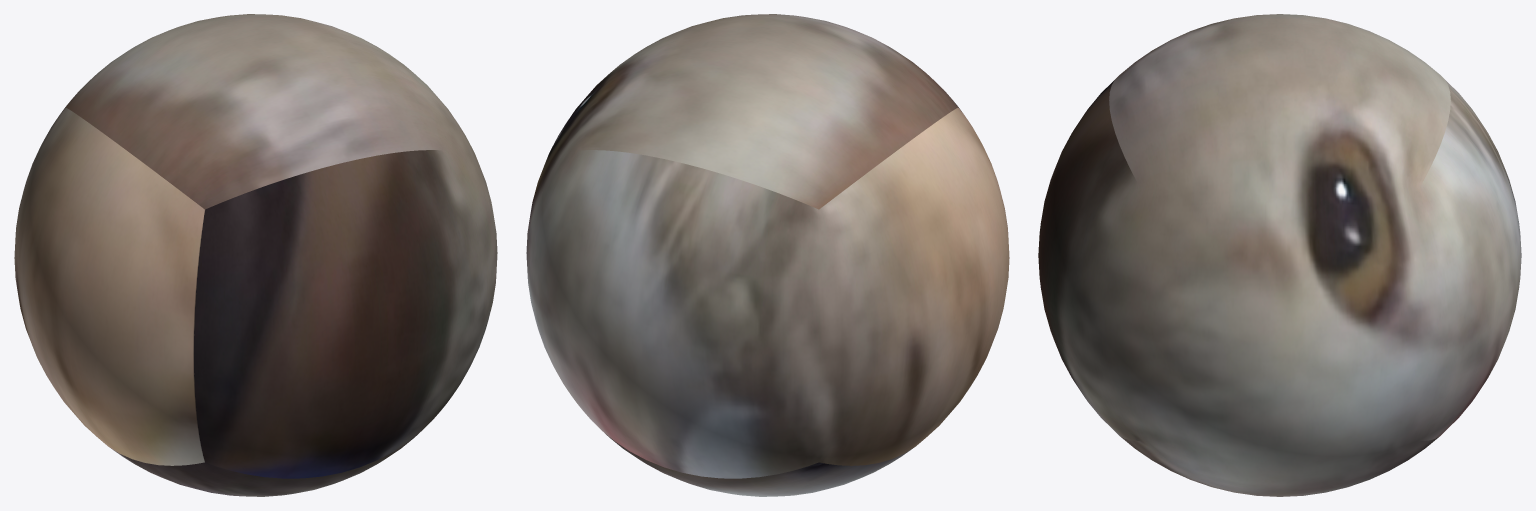
File: bigSphere.glb
The picture shows the model from 3 angles, left to right: view 1: azimuth 30°, elevation 25°; view 2: azimuth 150°, elevation 25°; view 3: azimuth 270°, elevation 25°; orthographic projection.
Parts seen in each view (by area): view 1: Big Miauu; view 2: Big Miauu; view 3: Big Miauu.
Boxes of the visible parts, left/top/right/bottom form: Big Miauu: left=14, top=14, right=497, bottom=496; Big Miauu: left=526, top=14, right=1009, bottom=496; Big Miauu: left=1038, top=14, right=1521, bottom=496.
Bounding box in the file's own units: 5.14 × 5.14 × 5.14.
1 material, 1 textured.
